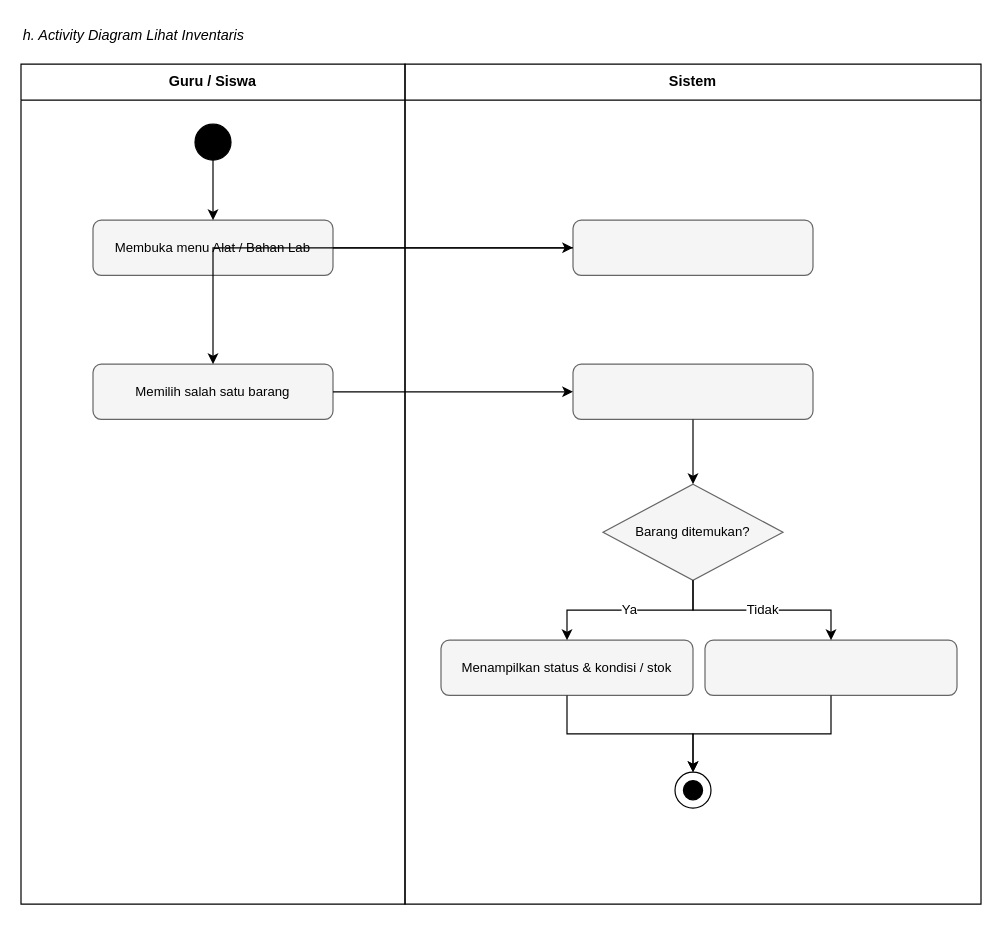
Image size: 1002x925. Some labels were removed from this diagram. The centre of each missing label's shape, as x and y in pixels:
"Menampilkan daftar alat & bahan beserta stok" belongs at (x=692, y=247).
"Menampilkan detail barang" belongs at (x=692, y=391).
"Menampilkan pesan data tidak tersedia" belongs at (x=830, y=667).
